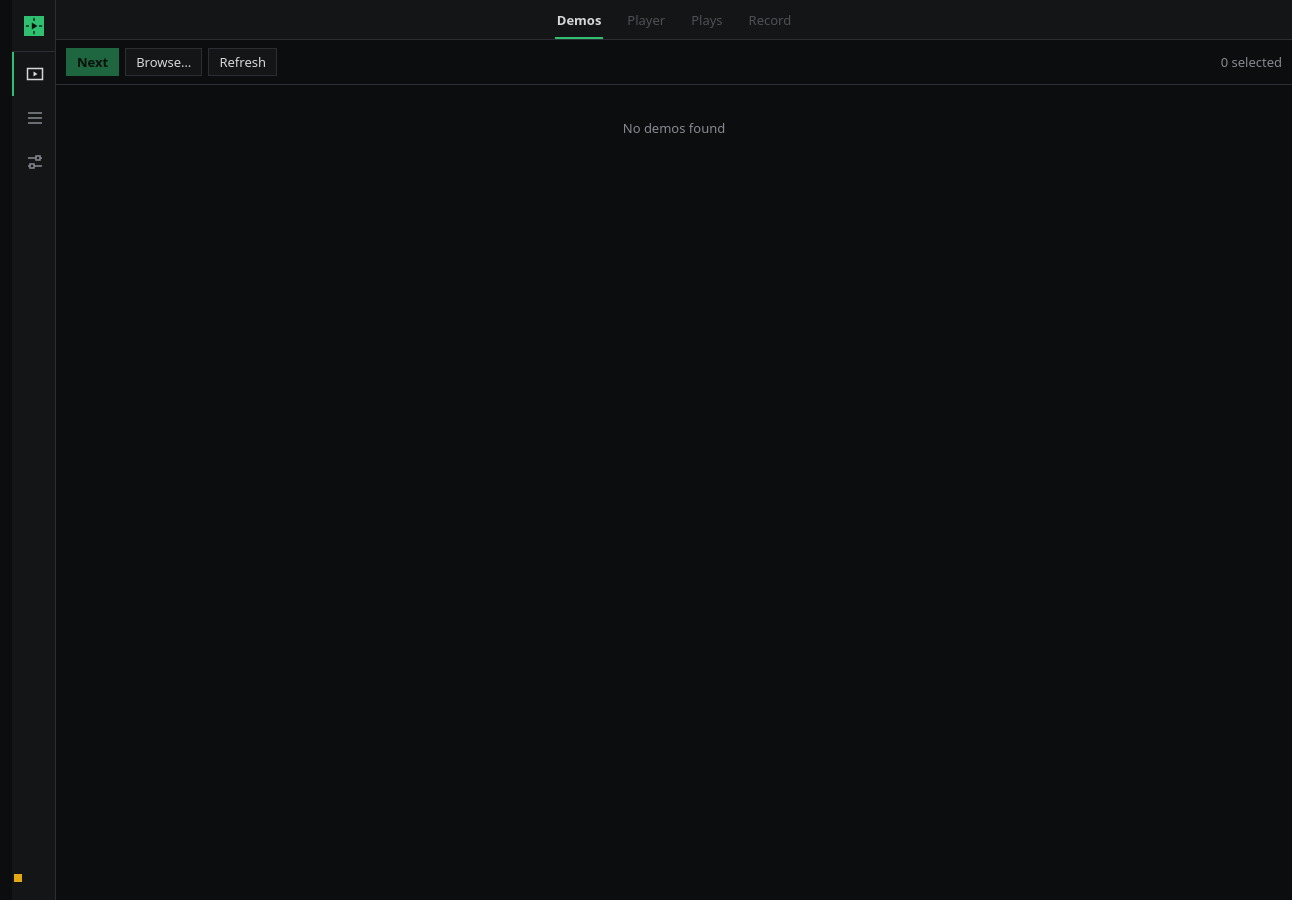
opens on a new reel and switches pages from the side bar
Click the button named "Reels".
click(34, 118)  # box [12,96,55,140]
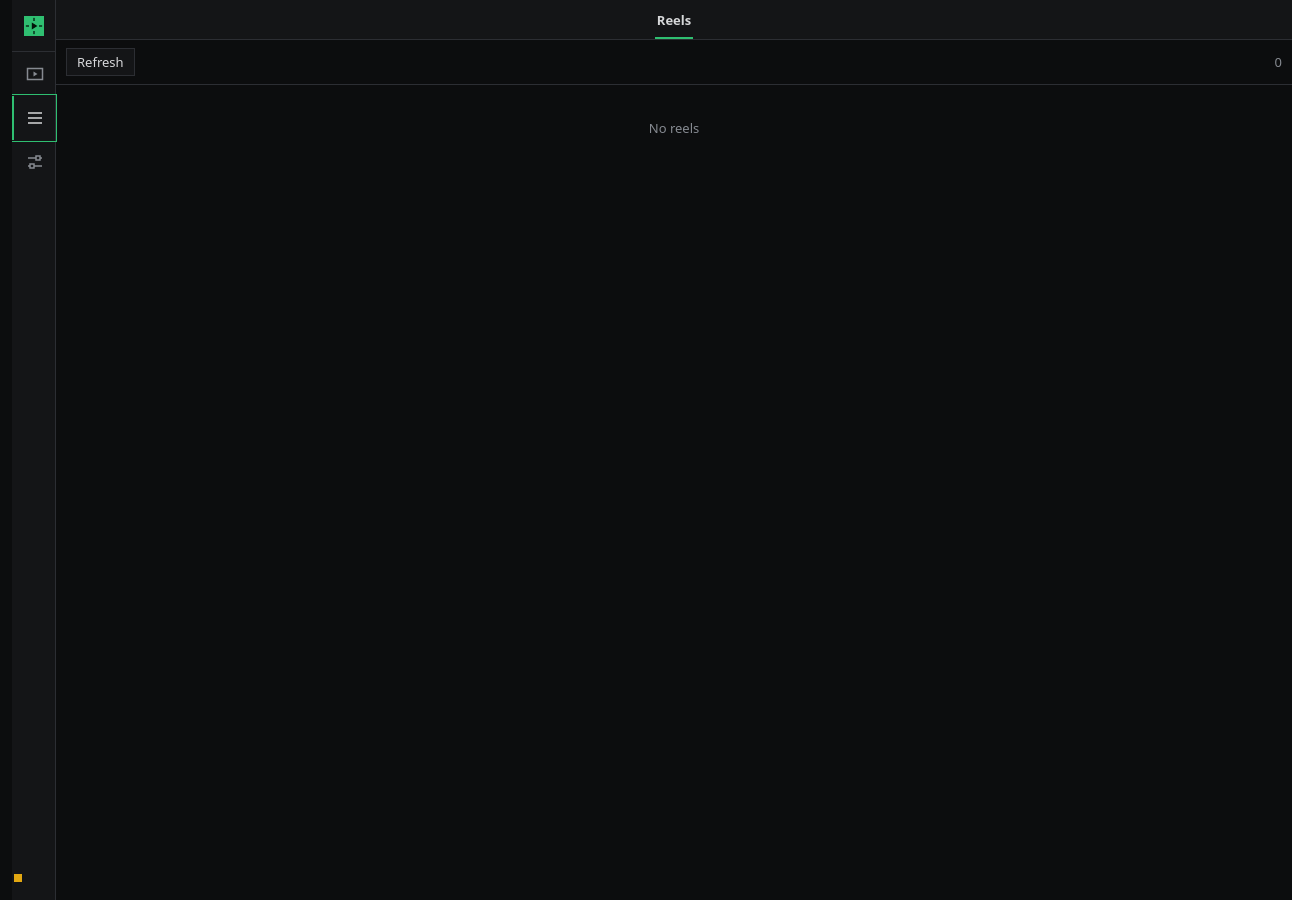
Expected: the tab "Reels" is shown, [655,9,693,39]
